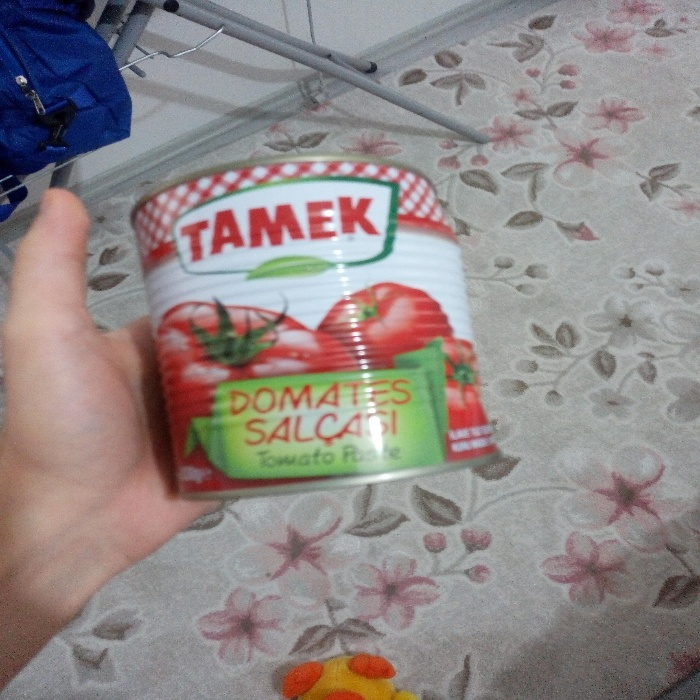salca: (122, 139, 539, 533)
